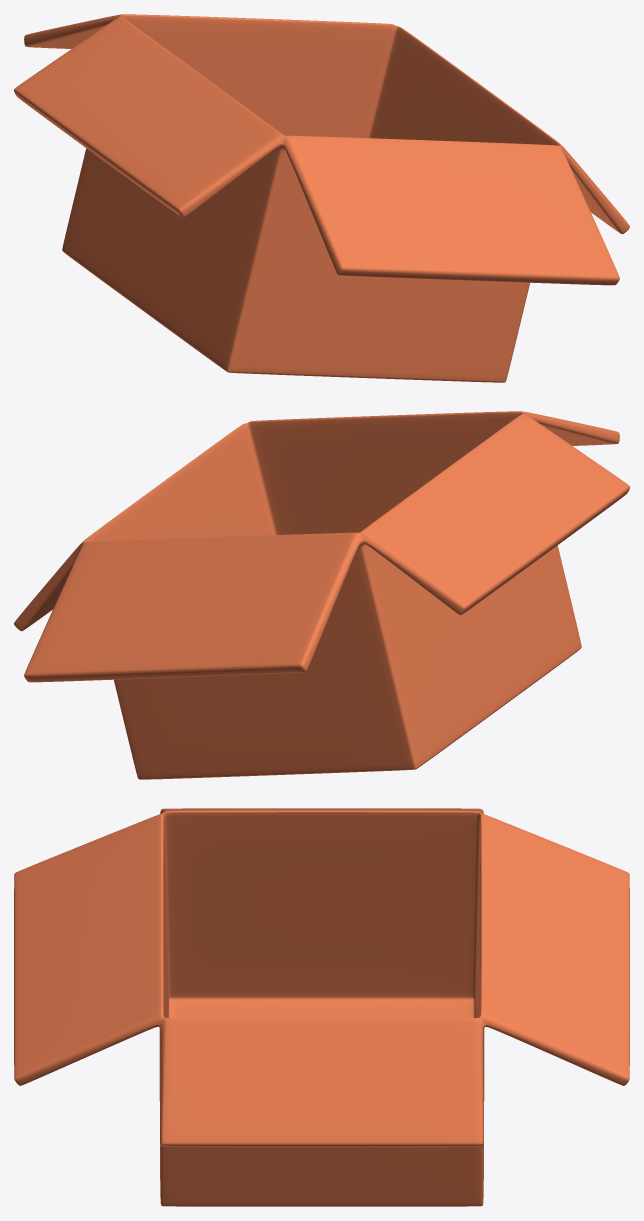
Rendered from 21. Craft Box.glb.
3 views of the same model, one above another, from view 1: azimuth 30°, elevation 25°; view 2: azimuth 150°, elevation 25°; view 3: azimuth 270°, elevation 25° (orthographic). The views are drawn at different scales.
Parts seen in each view (by area): view 1: Box; view 2: Box; view 3: Box.
Boxes of the visible parts, x1,y1,x2,y2 form: Box: [14, 14, 629, 382]; Box: [14, 411, 629, 779]; Box: [14, 808, 629, 1206].
Size of the model in its own units: 0.565 by 0.3606 by 0.6902.
